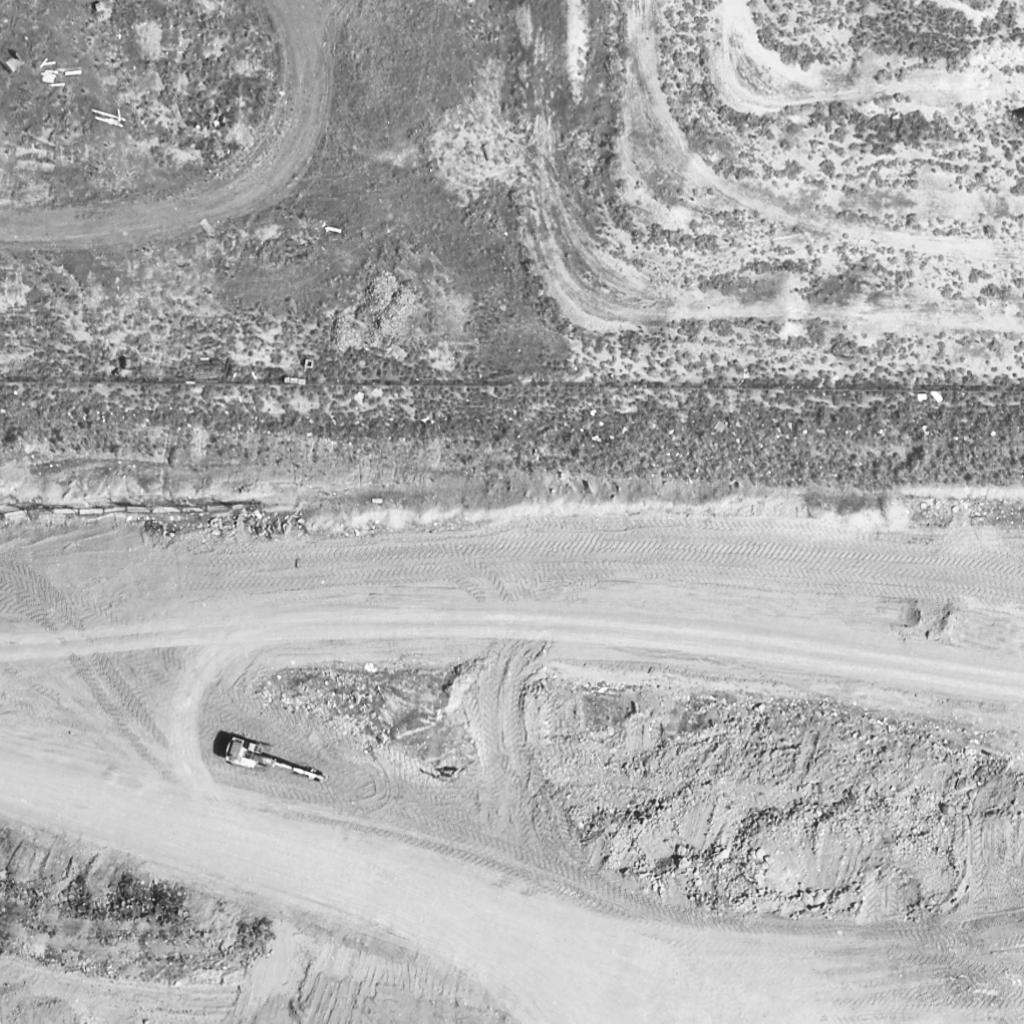vehicle: (225, 737, 331, 793)
